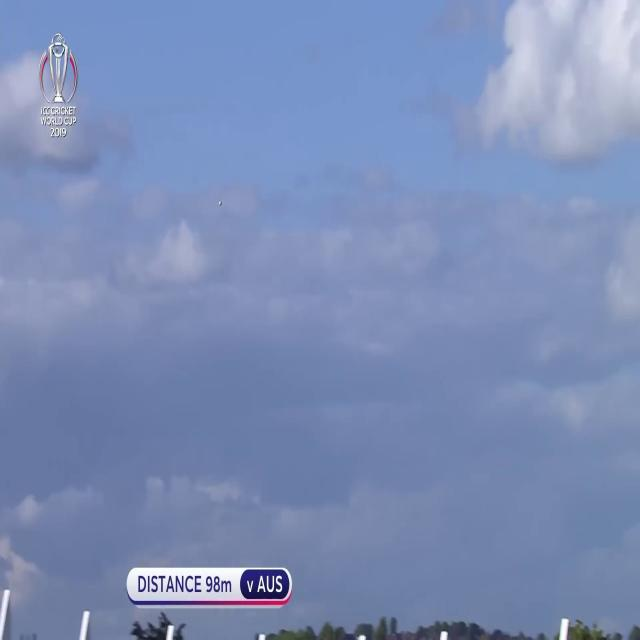ball: (217, 198, 224, 208)
